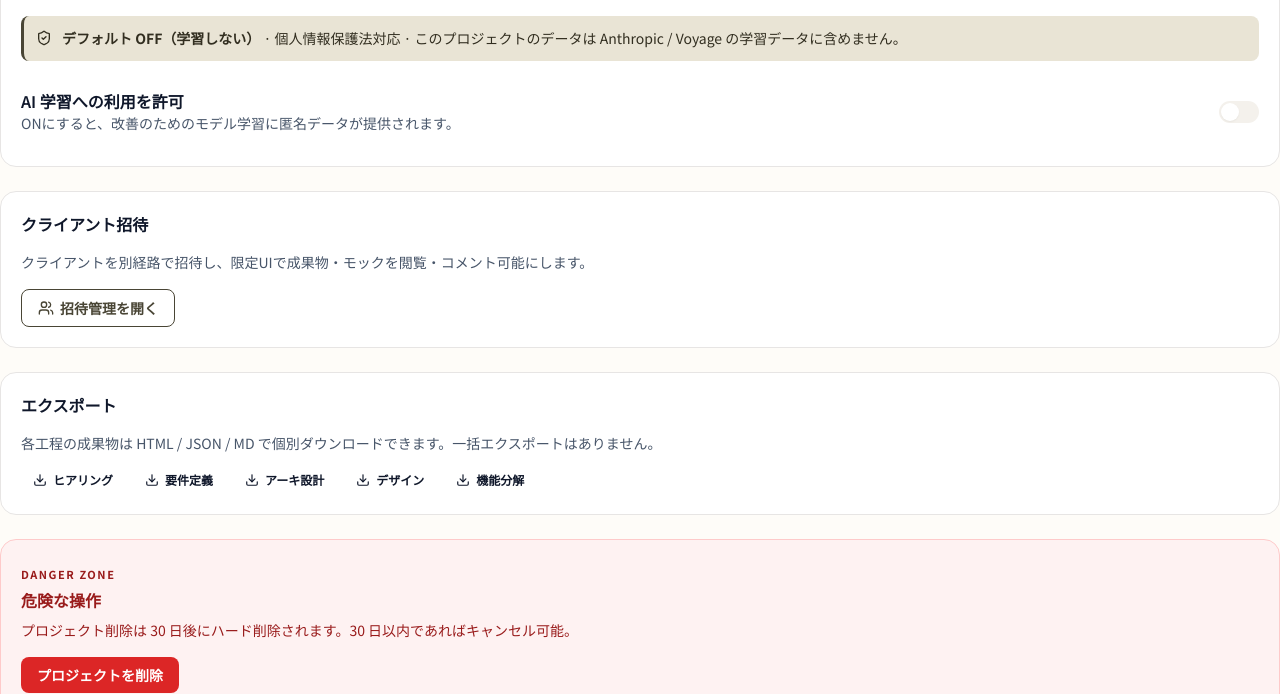
Test: S-B03 ProjectSettingsContainer (T-UC-05) › shows an explicit message when a stage has no outputs yet
(page scrolled)
Click the button "要件定義": (179, 480) [133, 466, 225, 494]
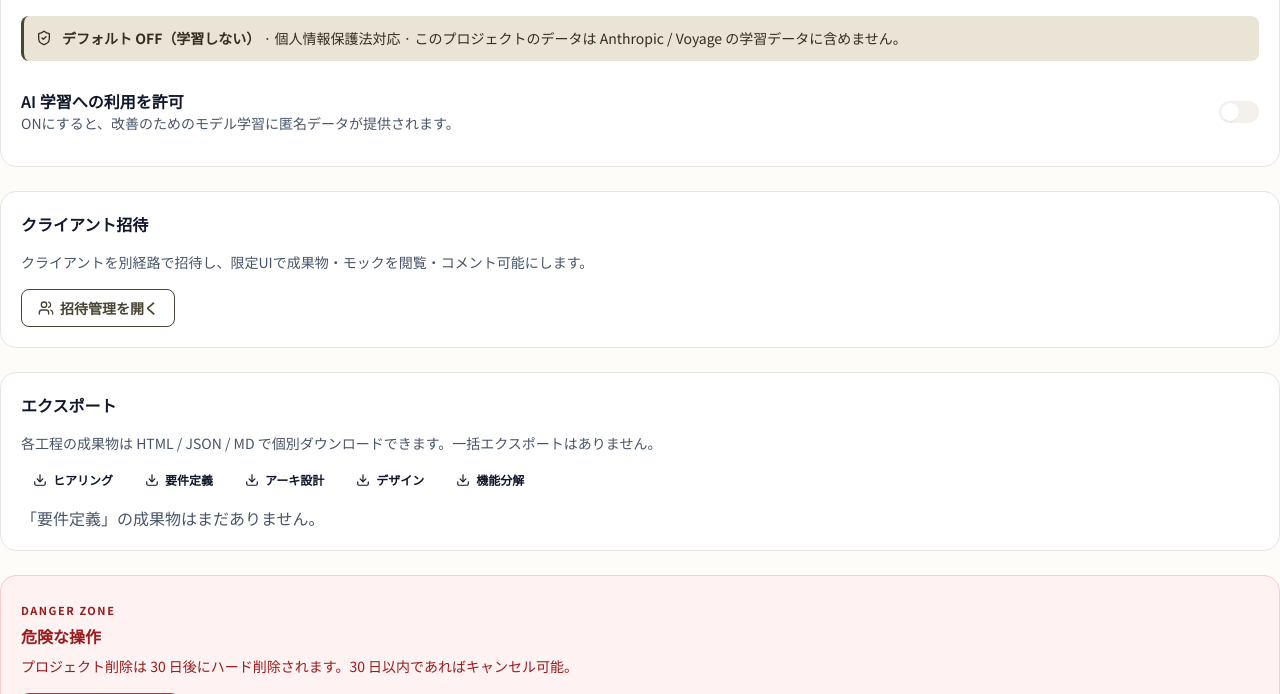
expect the text "「要件定義」の成果物はまだありません。" is shown: met, box [21, 506, 324, 530]
